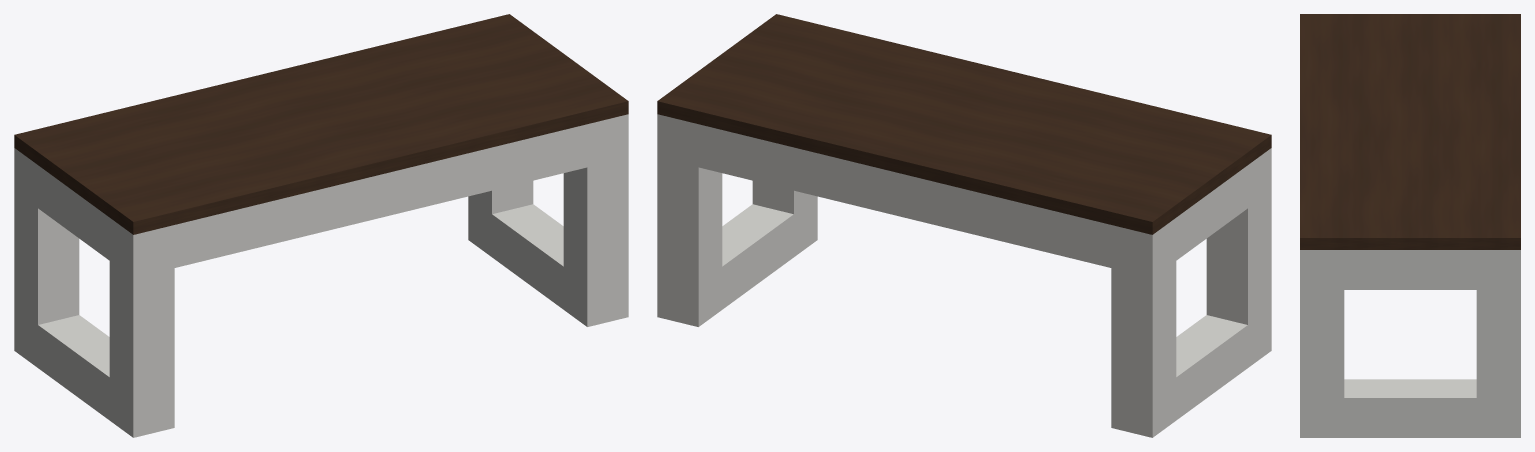
The model's file is mesa-living-nord-ebano-blanco-10cm.glb.
3 renders of one model, left to right at view 1: azimuth 30°, elevation 25°; view 2: azimuth 150°, elevation 25°; view 3: azimuth 270°, elevation 25°, orthographic. The views are drawn at different scales.
Parts seen in each view (by area): view 1: Tapa de madera maciza 120 x 50 cm, Pata recta de hierro 10 x 10 cm (×4), Larguero longitudinal superior recto, Travesaño inferior recto (×2), Travesaño superior recto; view 2: Tapa de madera maciza 120 x 50 cm, Pata recta de hierro 10 x 10 cm (×4), Larguero longitudinal superior recto, Travesaño inferior recto (×2), Travesaño superior recto; view 3: Tapa de madera maciza 120 x 50 cm, Pata recta de hierro 10 x 10 cm (×2), Travesaño inferior recto, Travesaño superior recto.
Part boxes in pixels (x1,y1,x2,y2): Tapa de madera maciza 120 x 50 cm: (14, 14, 628, 234); Pata recta de hierro 10 x 10 cm (×4): (14, 114, 628, 437); Larguero longitudinal superior recto: (174, 124, 587, 267); Travesaño inferior recto (×2): (26, 204, 575, 428); Travesaño superior recto: (26, 158, 121, 269); Tapa de madera maciza 120 x 50 cm: (657, 14, 1271, 234); Pata recta de hierro 10 x 10 cm (×4): (657, 114, 1271, 437); Larguero longitudinal superior recto: (698, 124, 1111, 267); Travesaño inferior recto (×2): (710, 204, 1247, 428); Travesaño superior recto: (1164, 165, 1247, 268); Tapa de madera maciza 120 x 50 cm: (1300, 14, 1520, 249); Pata recta de hierro 10 x 10 cm (×2): (1300, 250, 1520, 437); Travesaño inferior recto: (1323, 379, 1497, 437); Travesaño superior recto: (1322, 250, 1498, 289).
Size of the model in its own units: 1.2 by 0.5 by 0.5.
2 materials, 1 textured.
